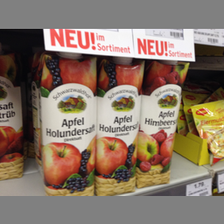juice: (39, 51, 96, 196), (95, 56, 146, 195), (136, 58, 190, 187)
